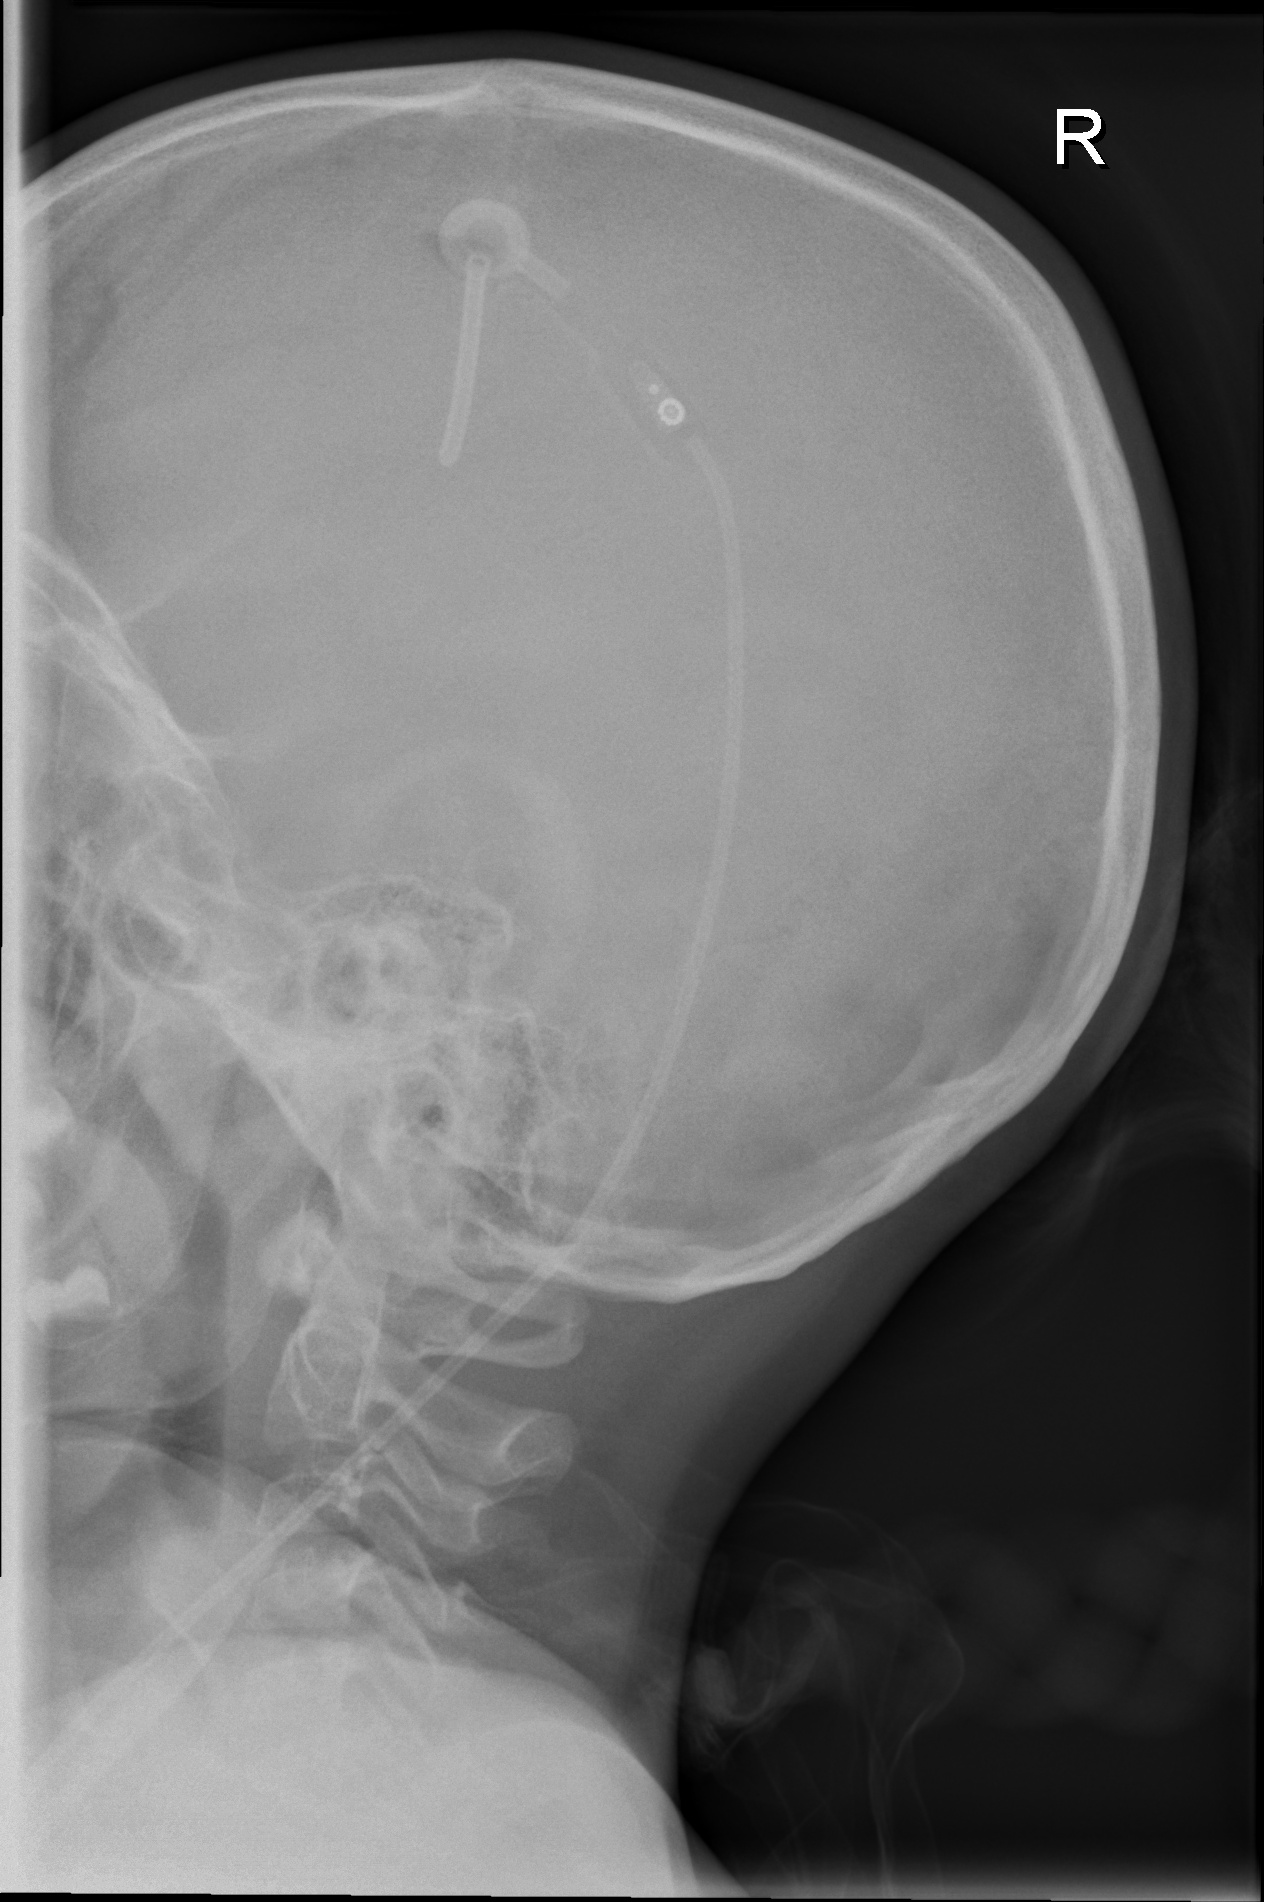Codman Hakim: (631, 371, 698, 437)
